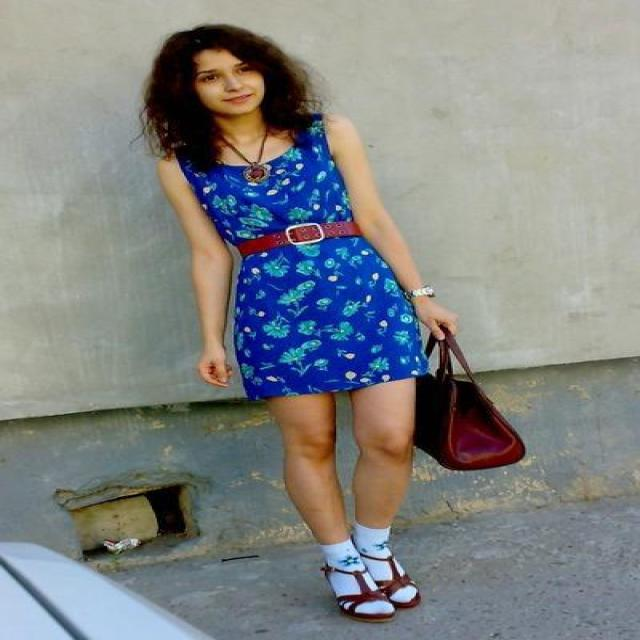bag: (414, 324, 525, 471)
dress: (188, 141, 438, 396)
shoe: (336, 558, 416, 623)
